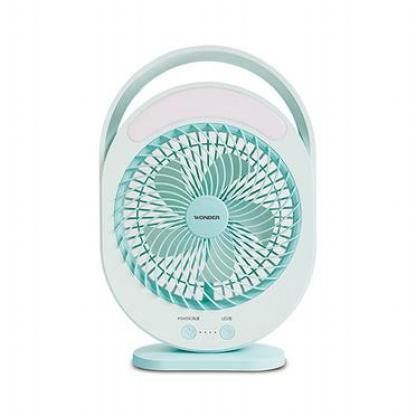fan: (118, 124, 309, 304)
